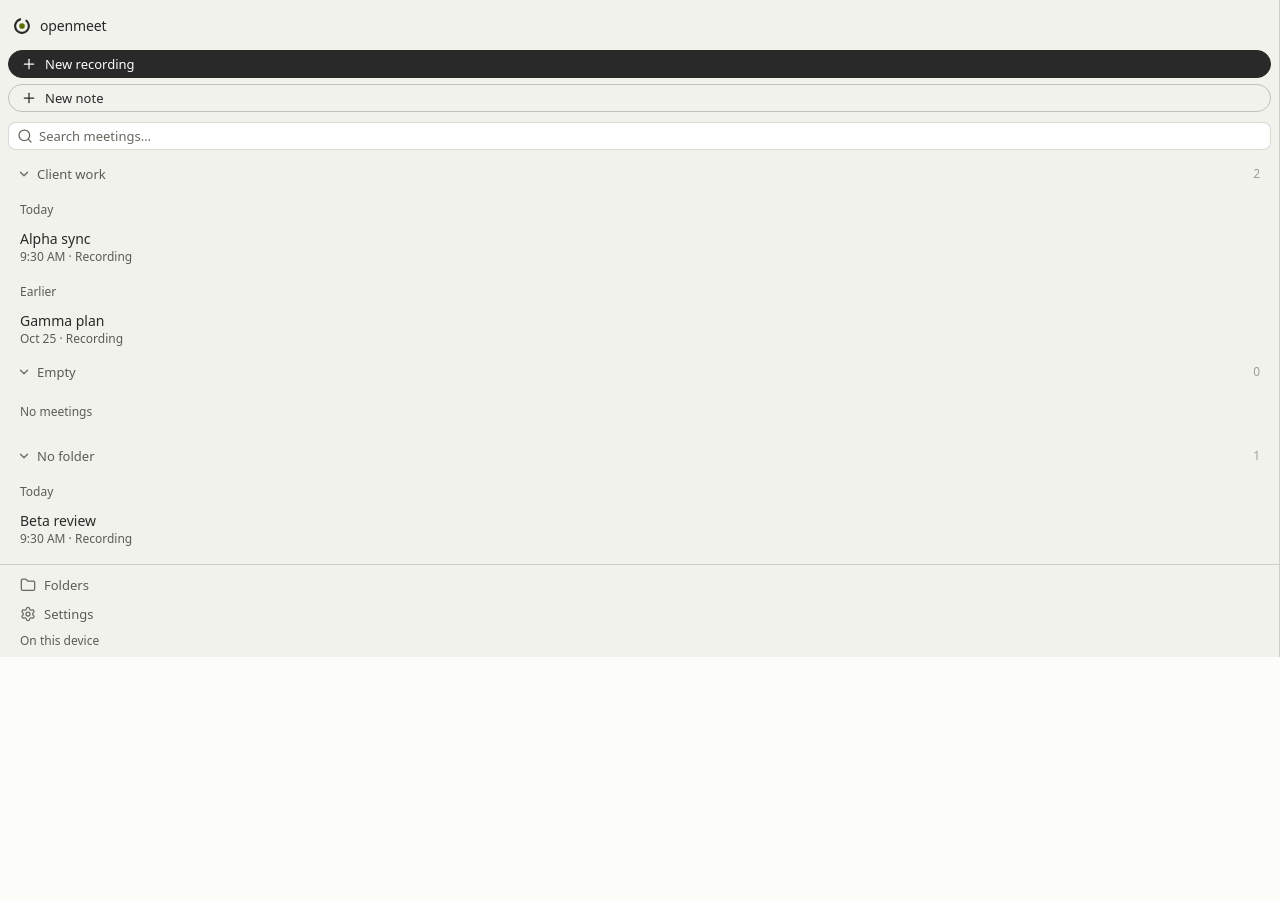
Test: meeting sidebar folders › collapses a folder section without changing its meetings
Click the button "Client work 2" at (71, 174), box [8,160,1269,188]
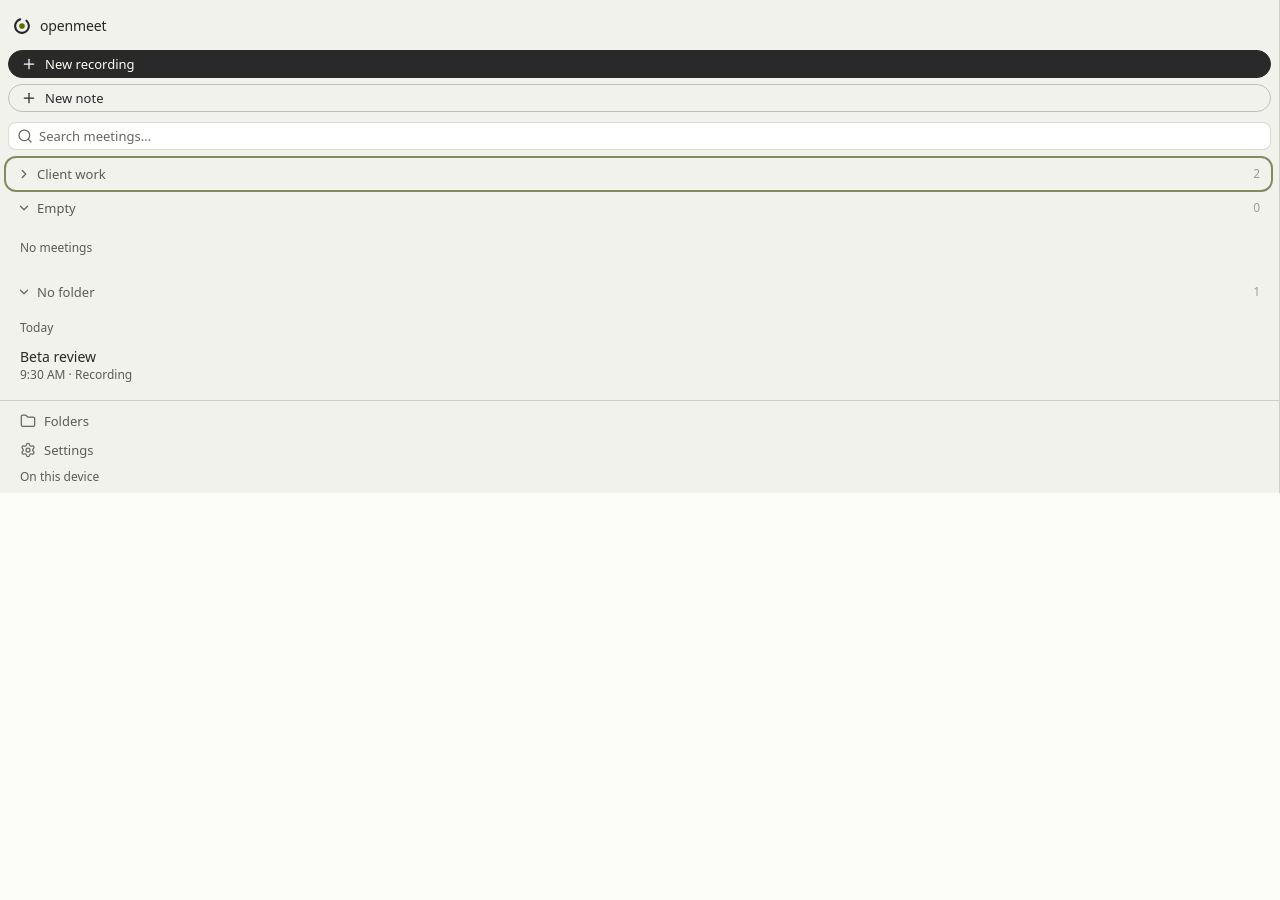
Now the button "Client work 2" is collapsed
Now the button "Alpha sync" is gone
Click the button "Client work 2" at (71, 174), box [8,160,1269,188]
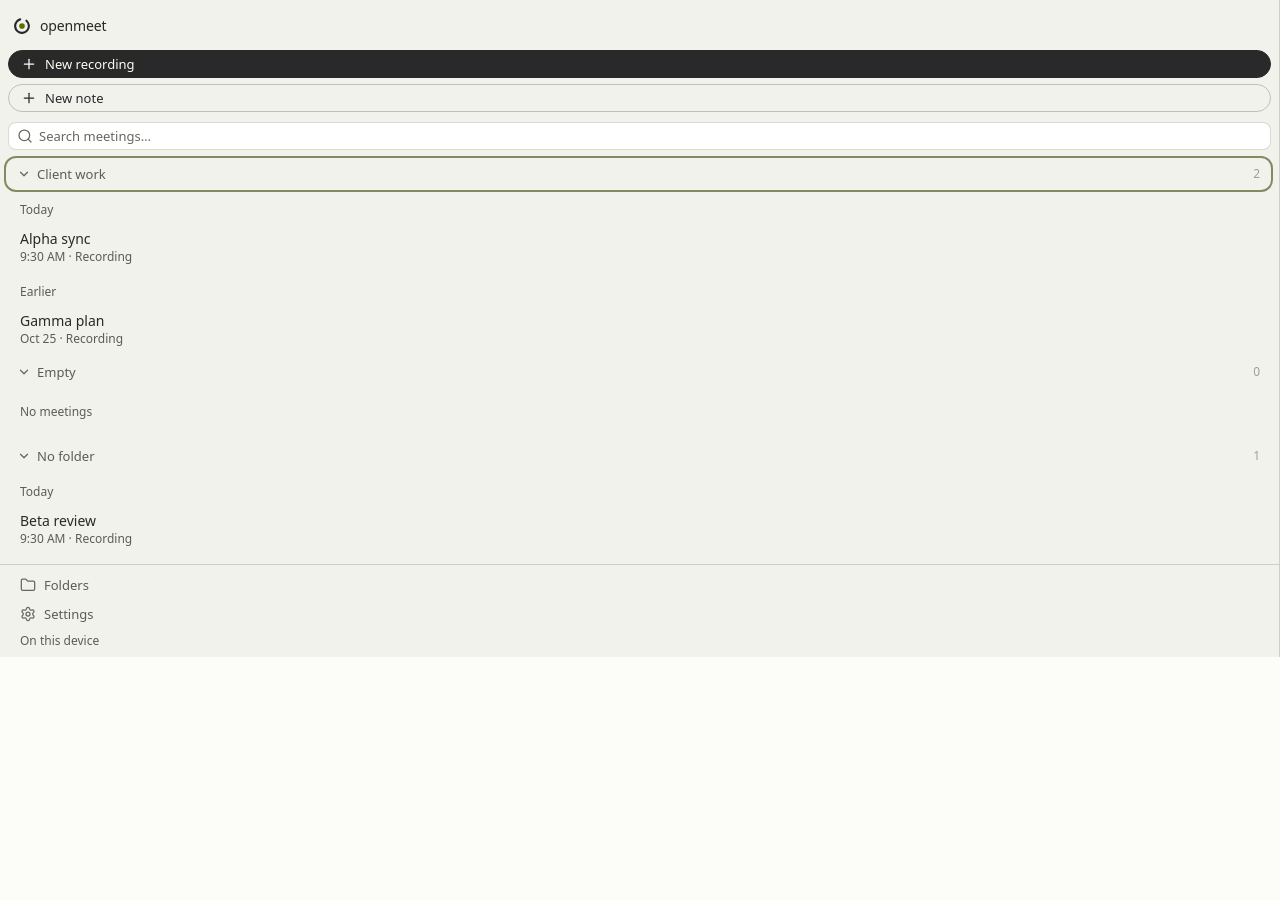
Now the button "Alpha sync 9:30 AM · Recording" is shown, box [8,224,1269,270]
